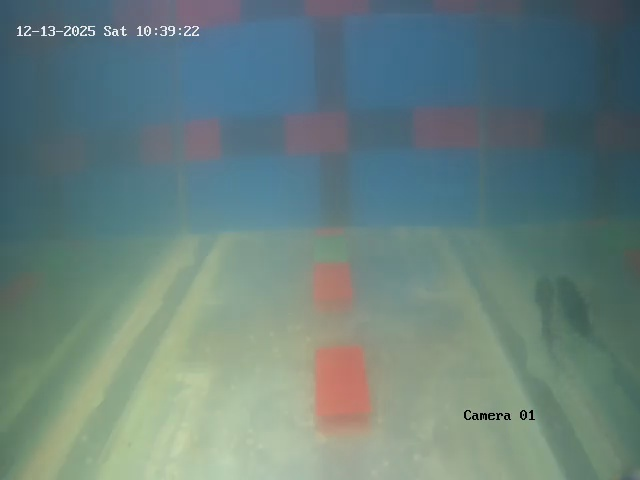fish: (529, 270, 562, 360)
